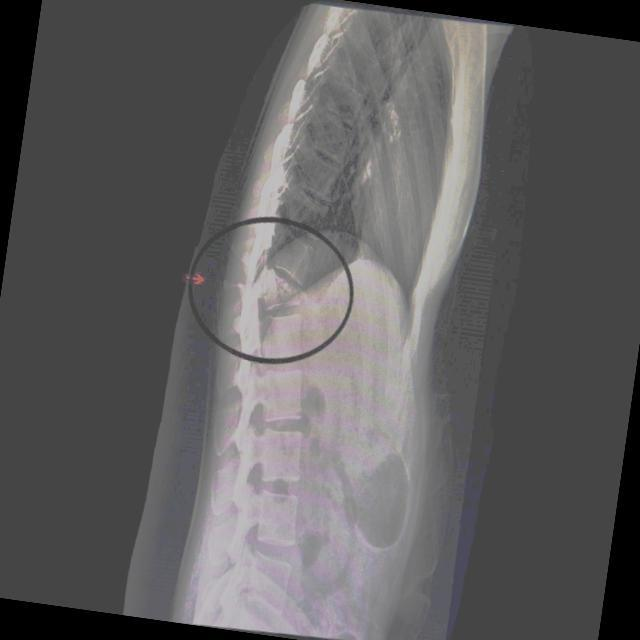Compression-Crush Fracutre: (248, 268, 316, 318)
